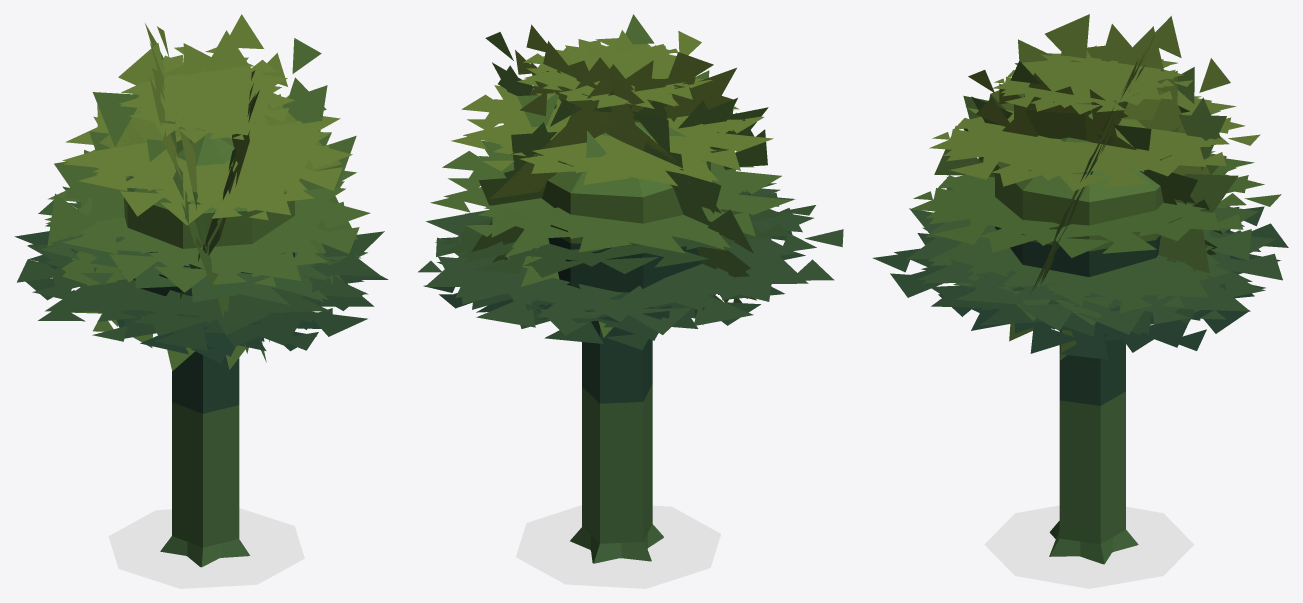
Rendered from tree01.fbx.
3 views of the same model, side by side, from view 1: azimuth 30°, elevation 25°; view 2: azimuth 150°, elevation 25°; view 3: azimuth 270°, elevation 25° (orthographic). The views are drawn at different scales.
Visible parts, largest first — view 1: Mesh_TreeFolliage01, Mesh_TreeTrunk01, Mesh_TreeShadow; view 2: Mesh_TreeFolliage01, Mesh_TreeTrunk01, Mesh_TreeShadow; view 3: Mesh_TreeFolliage01, Mesh_TreeTrunk01, Mesh_TreeShadow.
Part boxes in pixels (x1,y1,x2,y2): Mesh_TreeFolliage01: (14, 14, 388, 371); Mesh_TreeTrunk01: (160, 345, 249, 567); Mesh_TreeShadow: (108, 508, 304, 588); Mesh_TreeFolliage01: (418, 14, 843, 349); Mesh_TreeTrunk01: (570, 320, 663, 563); Mesh_TreeShadow: (516, 505, 720, 588); Mesh_TreeFolliage01: (872, 14, 1288, 360); Mesh_TreeTrunk01: (1049, 329, 1138, 564); Mesh_TreeShadow: (984, 505, 1194, 588).
Bounding box in the file's own units: 5.73 × 5.67 × 7.8.
